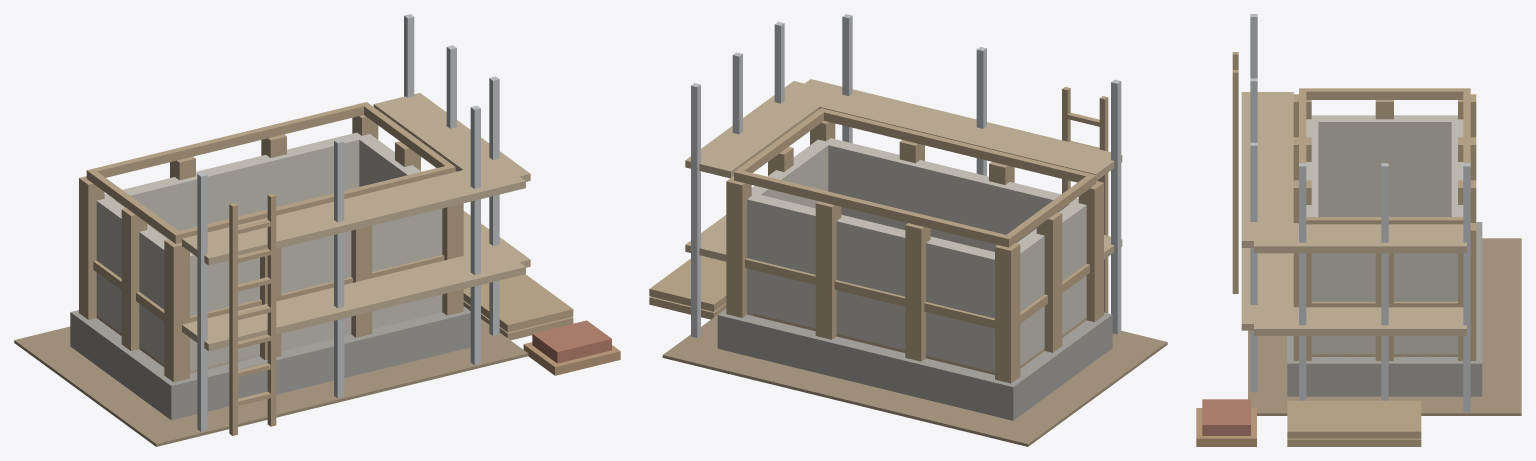
File: garden_shed_site_7.glb
The picture shows the model from 3 angles, left to right: view 1: azimuth 30°, elevation 25°; view 2: azimuth 150°, elevation 25°; view 3: azimuth 270°, elevation 25°; orthographic projection. The views are drawn at different scales.
Visible parts, largest first — view 1: body; view 2: body; view 3: body.
Boxes of the visible parts, x1,y1,x2,y2 form: body: (14,14,620,446); body: (649,14,1167,446); body: (1196,14,1521,446).
Size of the model in its own units: 1.2 by 0.6744 by 0.8.
